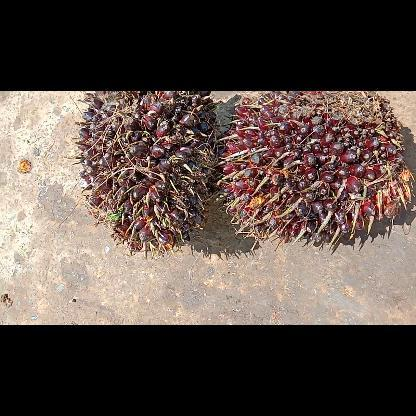TBS mentah: (218, 91, 412, 242), (74, 91, 216, 256)
